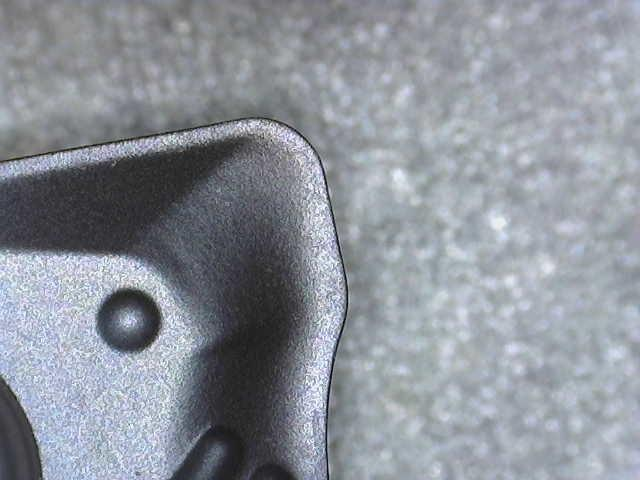normal: (0, 116, 351, 479)
